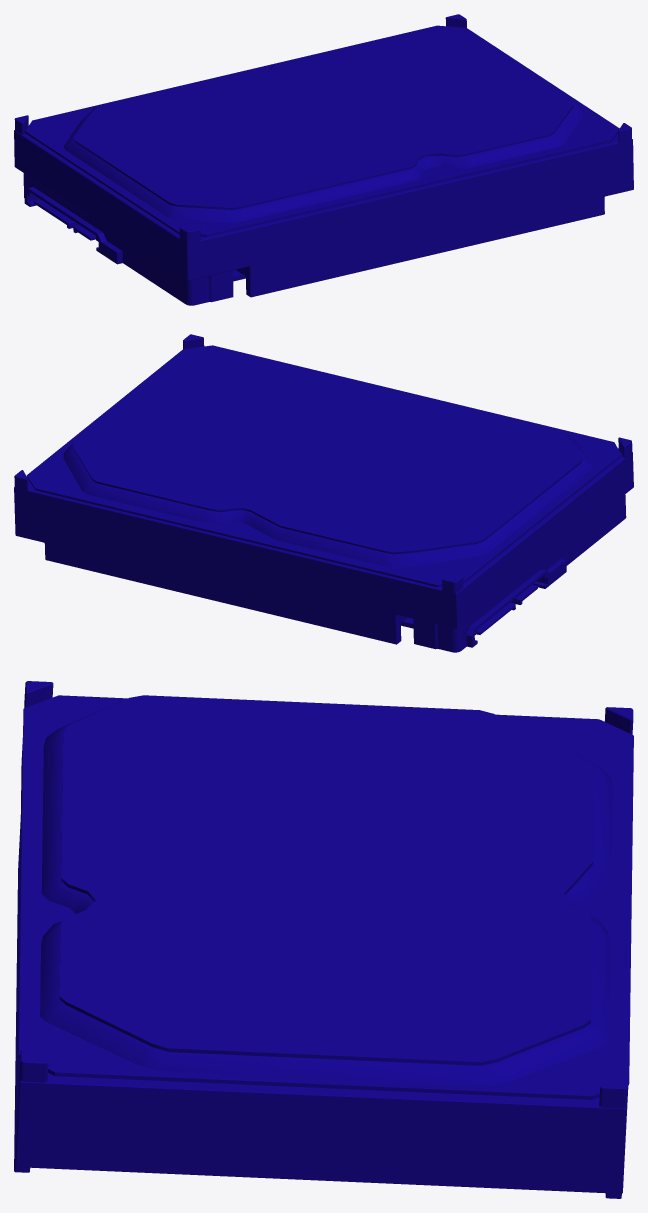
File: Harddrive.glb
3 views of the same model, one above another, from view 1: azimuth 30°, elevation 25°; view 2: azimuth 150°, elevation 25°; view 3: azimuth 270°, elevation 25° (orthographic). The views are drawn at different scales.
Visible parts, largest first — view 1: Harddrive; view 2: Harddrive; view 3: Harddrive.
Boxes of the visible parts, <box> form: Harddrive: <box>14,14,633,305</box>; Harddrive: <box>14,334,633,652</box>; Harddrive: <box>14,681,633,1198</box>.
Size of the model in its own units: 1.45 by 0.3014 by 1.
